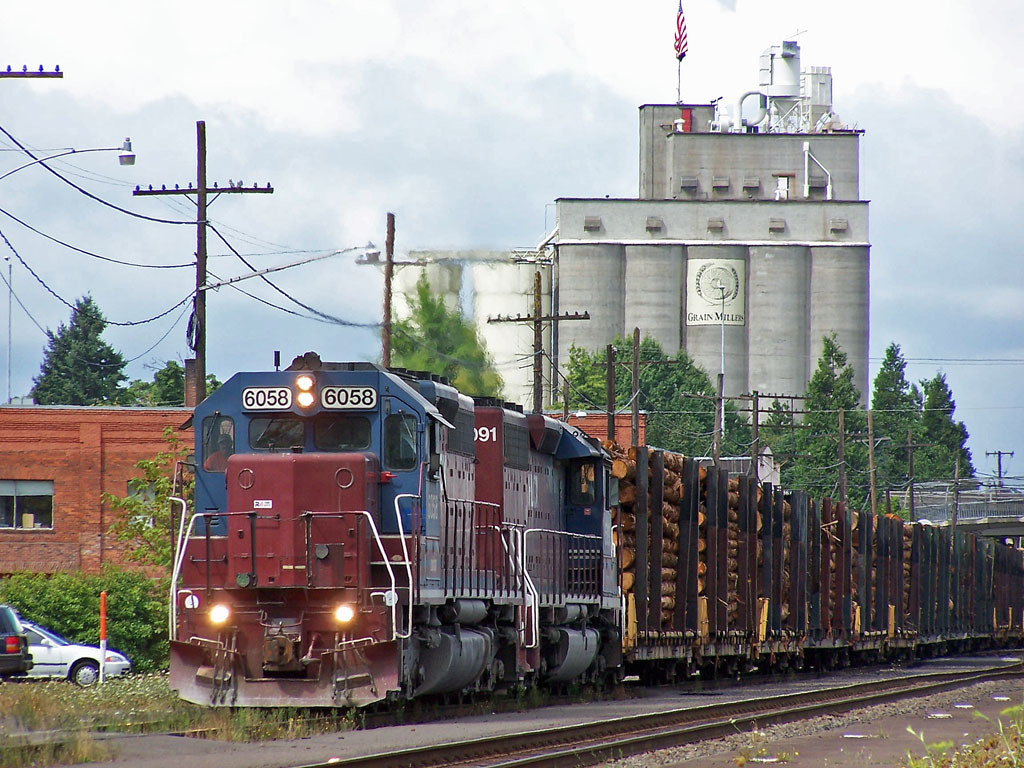Car: (3, 624, 117, 701), (0, 608, 35, 673)
